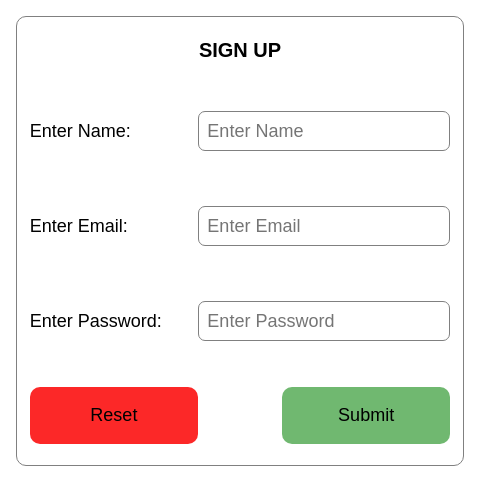
Test: SignUp Component › should throw error on error from server
Type "testUser" into the field with placeholder "Enter Name" at (324, 131), box [198,111,450,151]
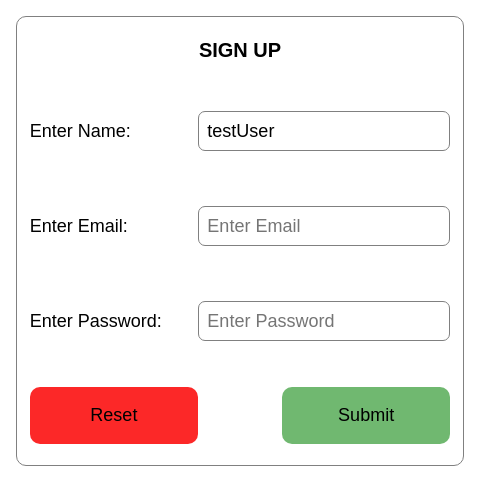
Type "test@gmail.com" into the field with placeholder "Enter Email" at (324, 226), box [198,206,450,246]
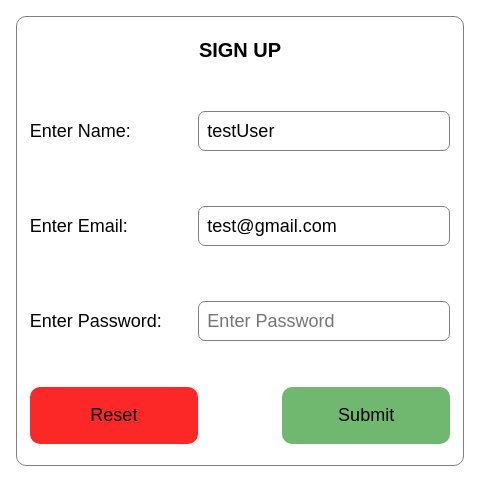
Type "test@1" into the password field with placeholder "Enter Password" at (324, 321), box [198,301,450,341]
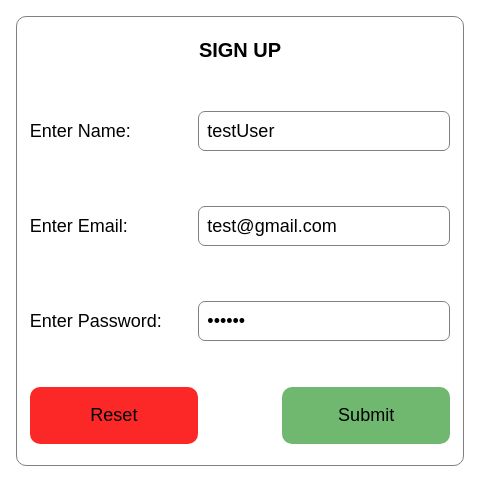
Click the button "Submit" at (366, 415), box [282,387,450,444]
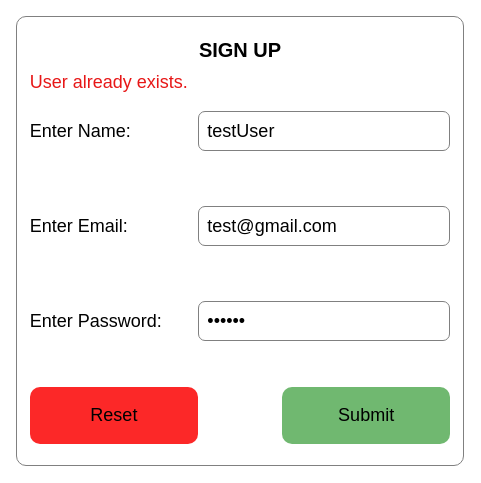
Expected: the text "User already exists." is shown, [30,72,188,92]
